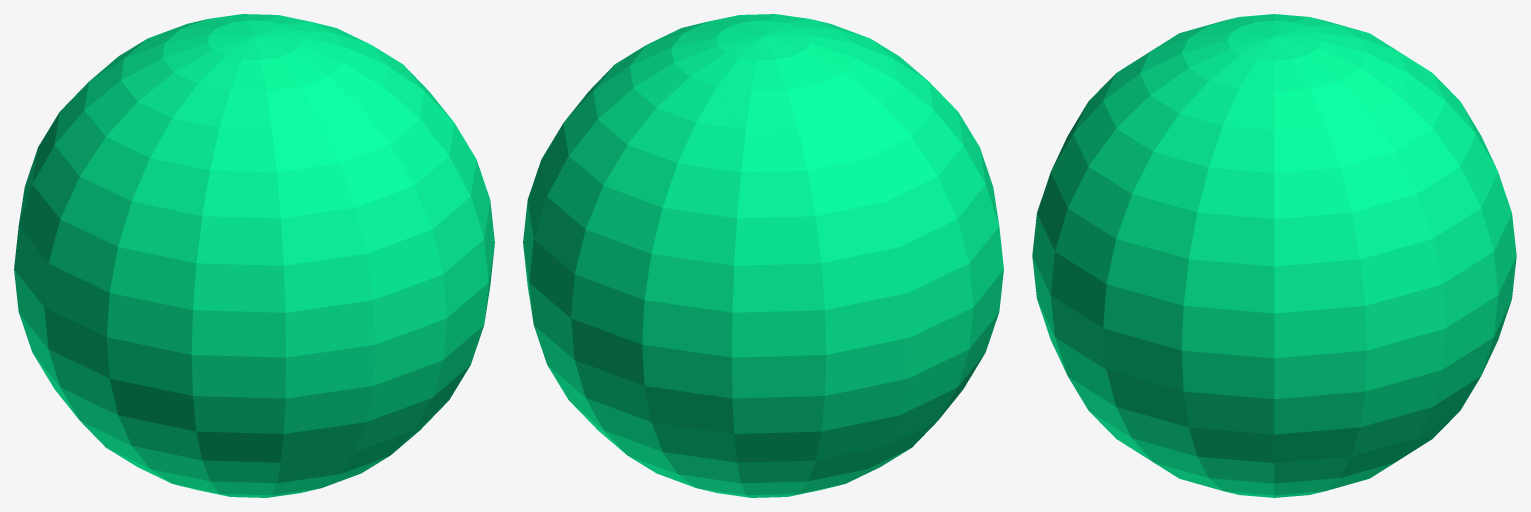
The model's file is Beam_Full.fbx.
3 views of the same model, side by side, from view 1: azimuth 30°, elevation 25°; view 2: azimuth 150°, elevation 25°; view 3: azimuth 270°, elevation 25° (orthographic).
Parts seen in each view (by area): view 1: Beam_Full; view 2: Beam_Full; view 3: Beam_Full.
Boxes of the visible parts, box(x1,y1,x2,y2) form: Beam_Full: box(14, 14, 494, 497); Beam_Full: box(523, 14, 1003, 497); Beam_Full: box(1032, 14, 1516, 497).
Bounding box in the file's own units: 2.4 × 2.4 × 2.4.
